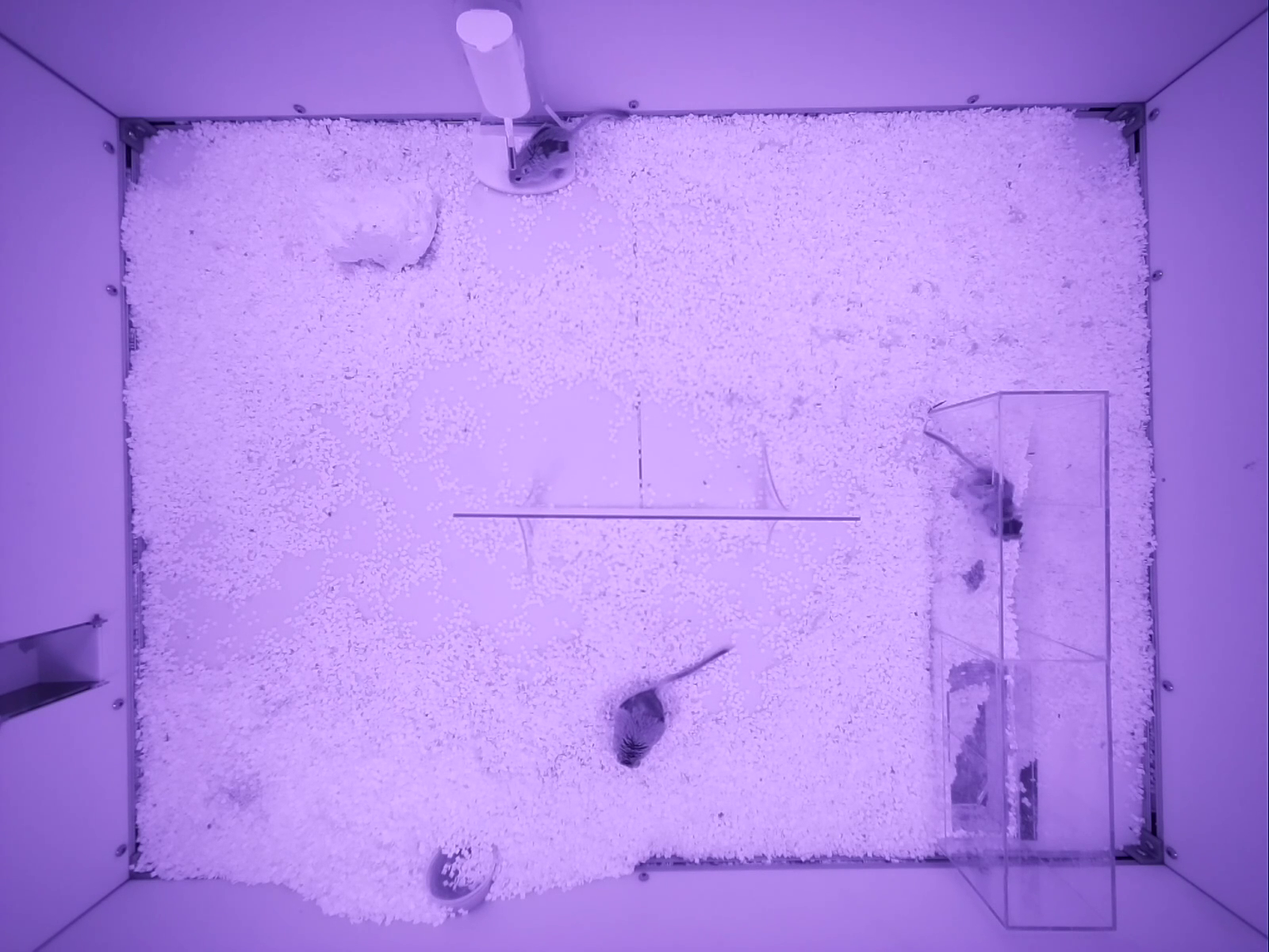adult_back: (615, 647, 730, 766), (925, 427, 1021, 539), (509, 109, 629, 186)
